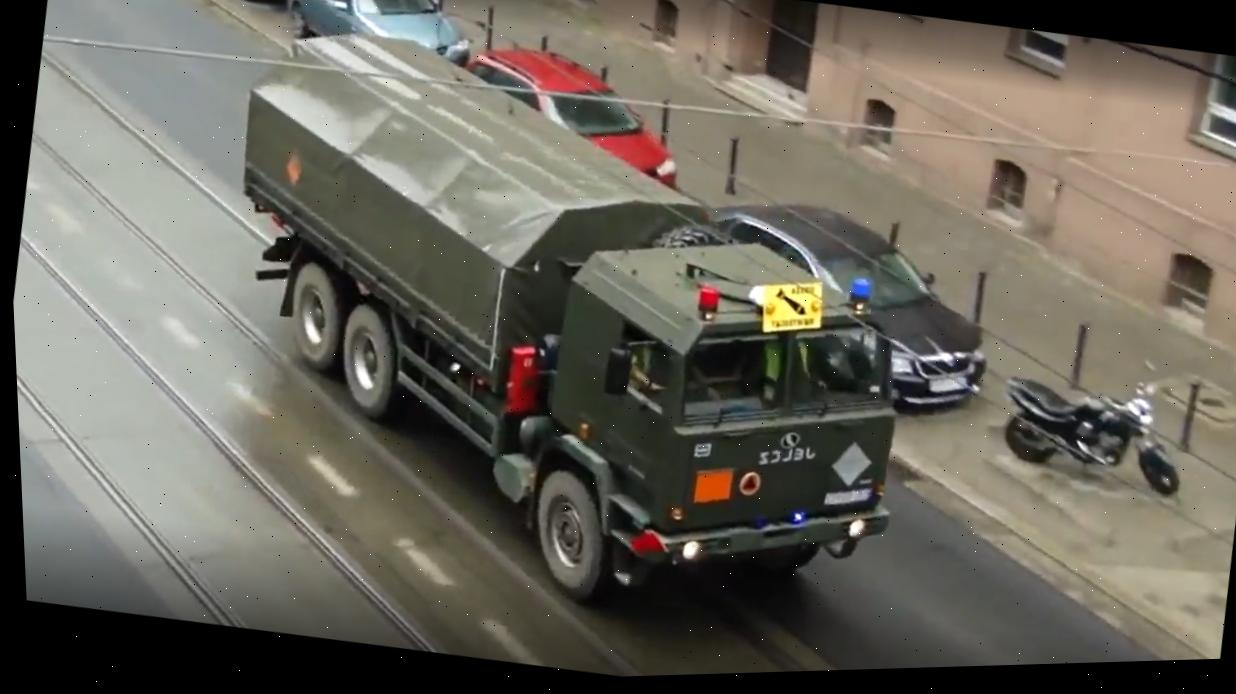truck: (169, 0, 972, 660)
